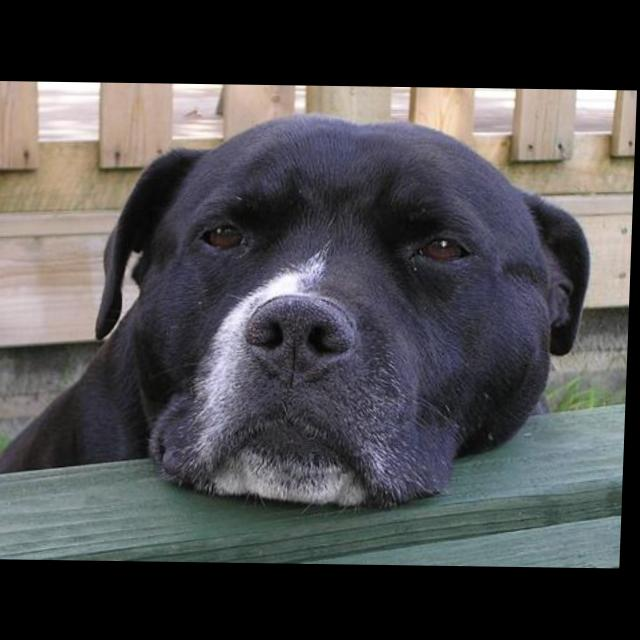staffford: (1, 109, 597, 512)
